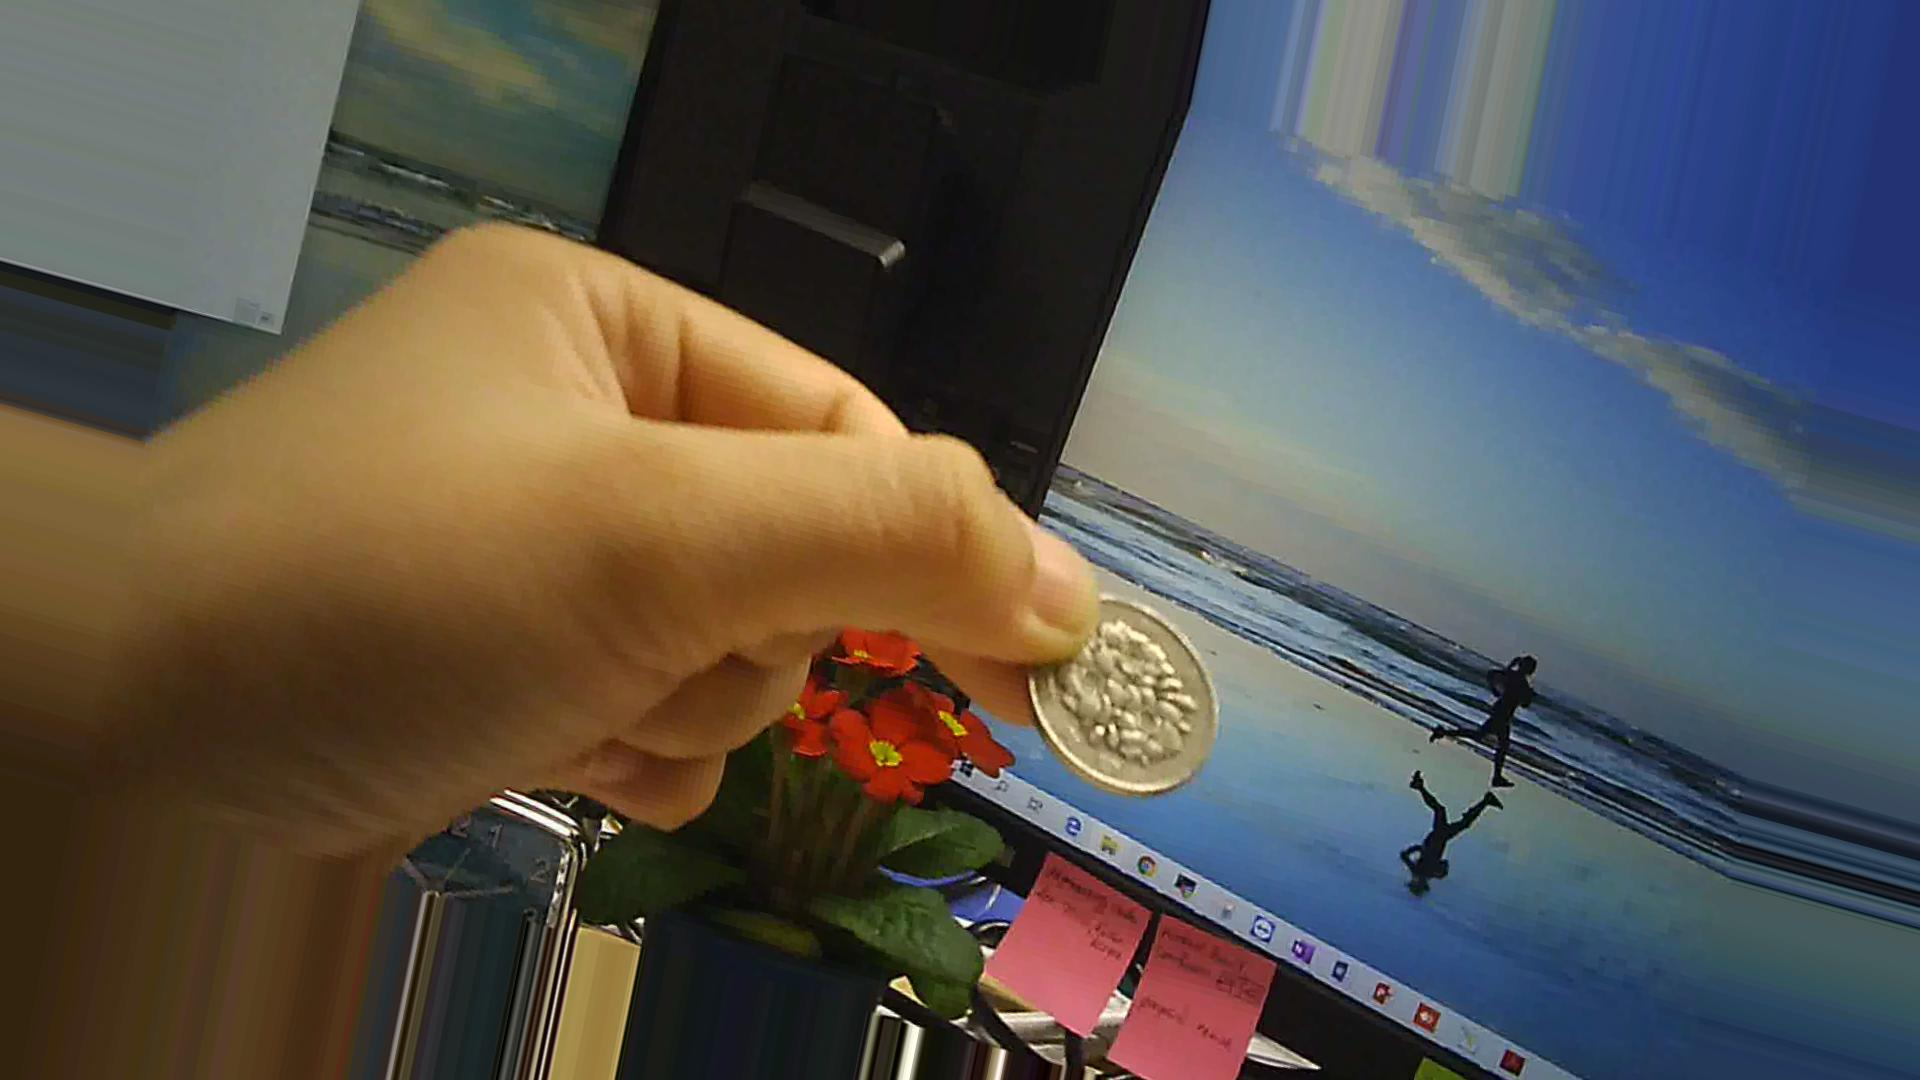100 Yen: (1005, 582, 1245, 804)
